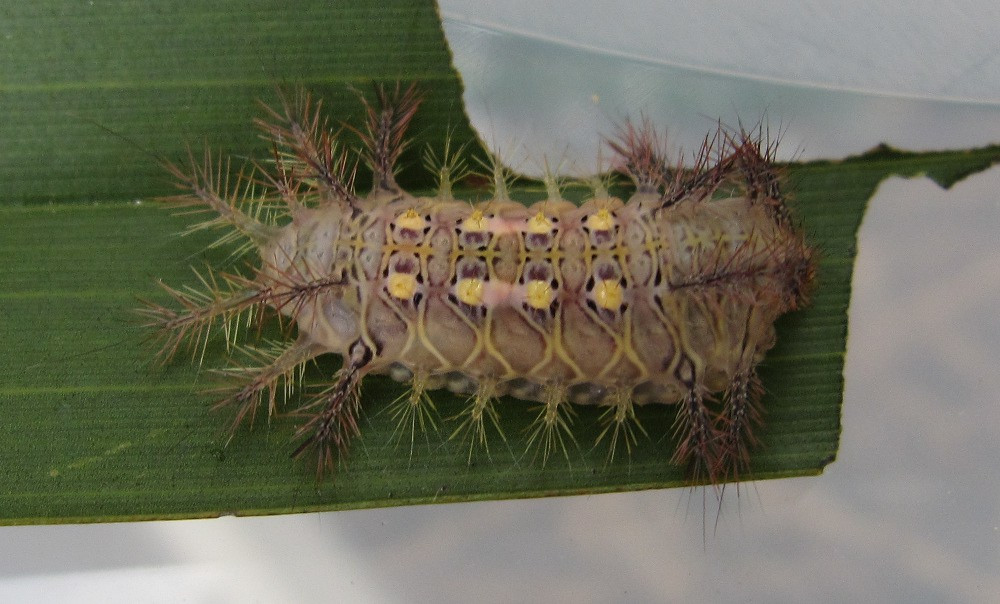Pest! (nettle_caterpillar): (189, 164, 815, 415)
